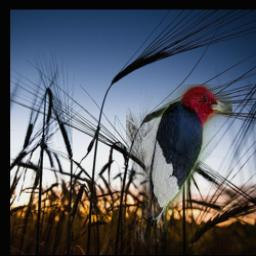Woodpecker: (126, 84, 232, 245)
